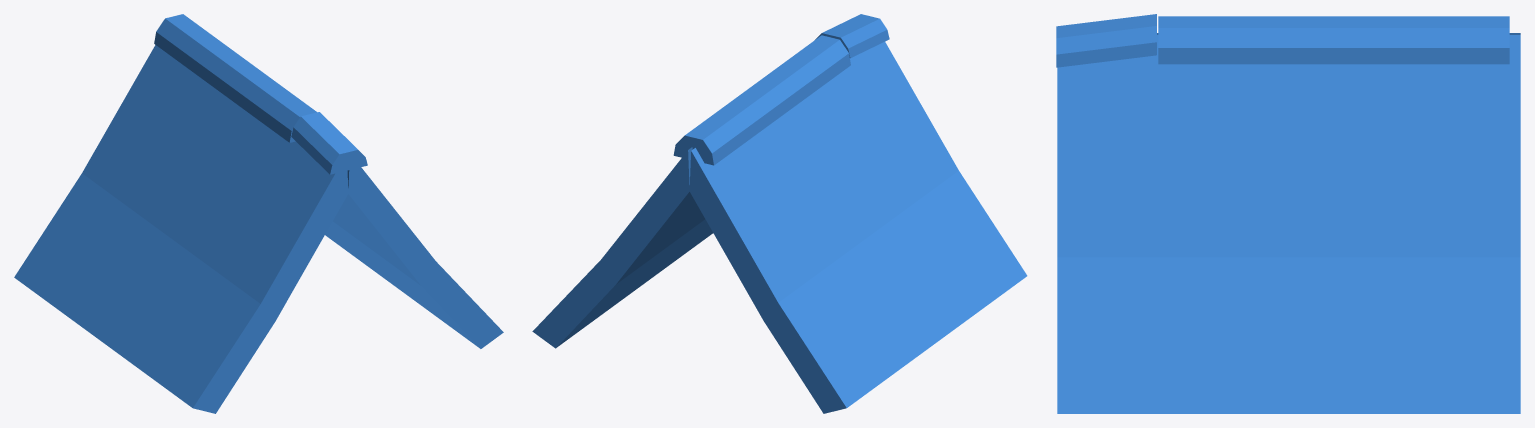
Rendered from Collision_Roof_FlatTiles_4x4.fbx.
3 renders of one model, left to right at view 1: azimuth 30°, elevation 25°; view 2: azimuth 150°, elevation 25°; view 3: azimuth 270°, elevation 25°, orthographic. The views are drawn at different scales.
Visible parts, largest first — view 1: UCX_Roof_FlatTiles_4x4_01; view 2: UCX_Roof_FlatTiles_4x4_01; view 3: UCX_Roof_FlatTiles_4x4_01.
Part boxes in pixels (x1,y1,x2,y2): UCX_Roof_FlatTiles_4x4_01: [14, 14, 503, 413]; UCX_Roof_FlatTiles_4x4_01: [532, 14, 1027, 413]; UCX_Roof_FlatTiles_4x4_01: [1056, 14, 1520, 413].
Bounding box in the file's own units: 555 × 408 × 554.
